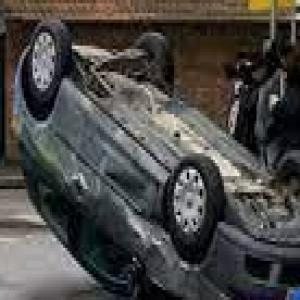critical: (8, 10, 300, 300)
